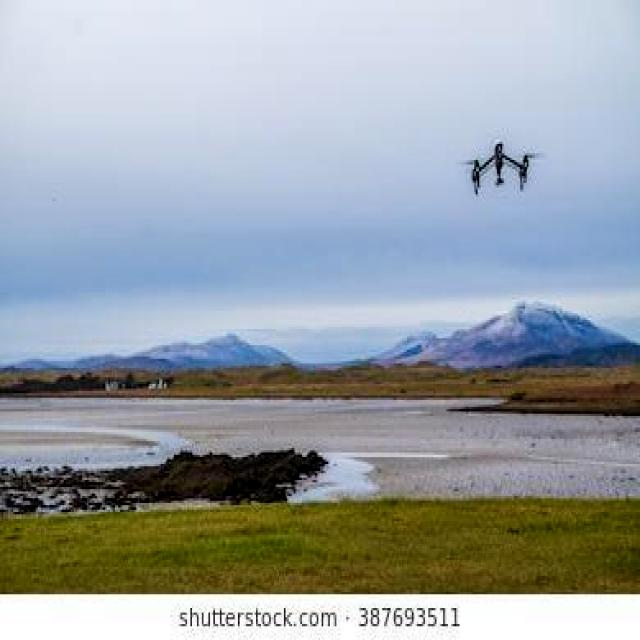drone: (469, 137, 530, 199)
